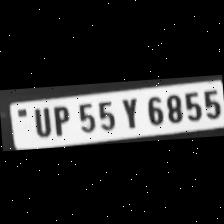5: (72, 99, 96, 133), (94, 96, 118, 130), (180, 86, 202, 120), (199, 86, 222, 118)
6: (141, 91, 165, 125)
8: (162, 90, 184, 123)
P: (48, 101, 72, 135)
U: (28, 103, 52, 137)
Y: (116, 94, 142, 128)
